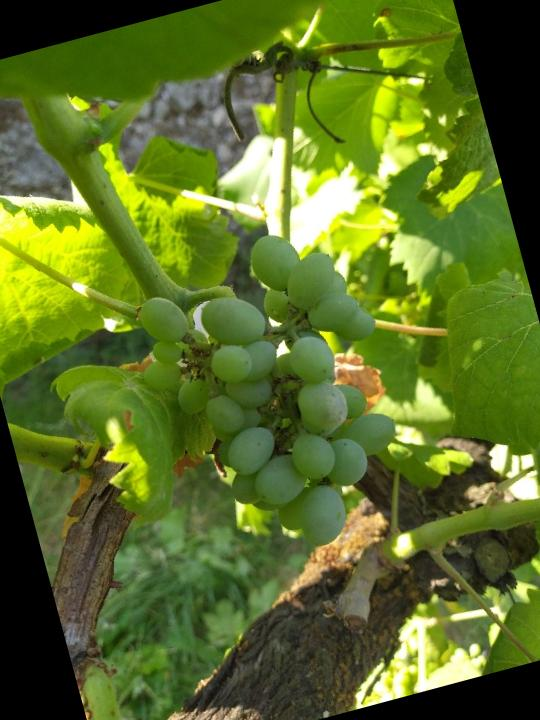grape: (110, 214, 424, 585)
